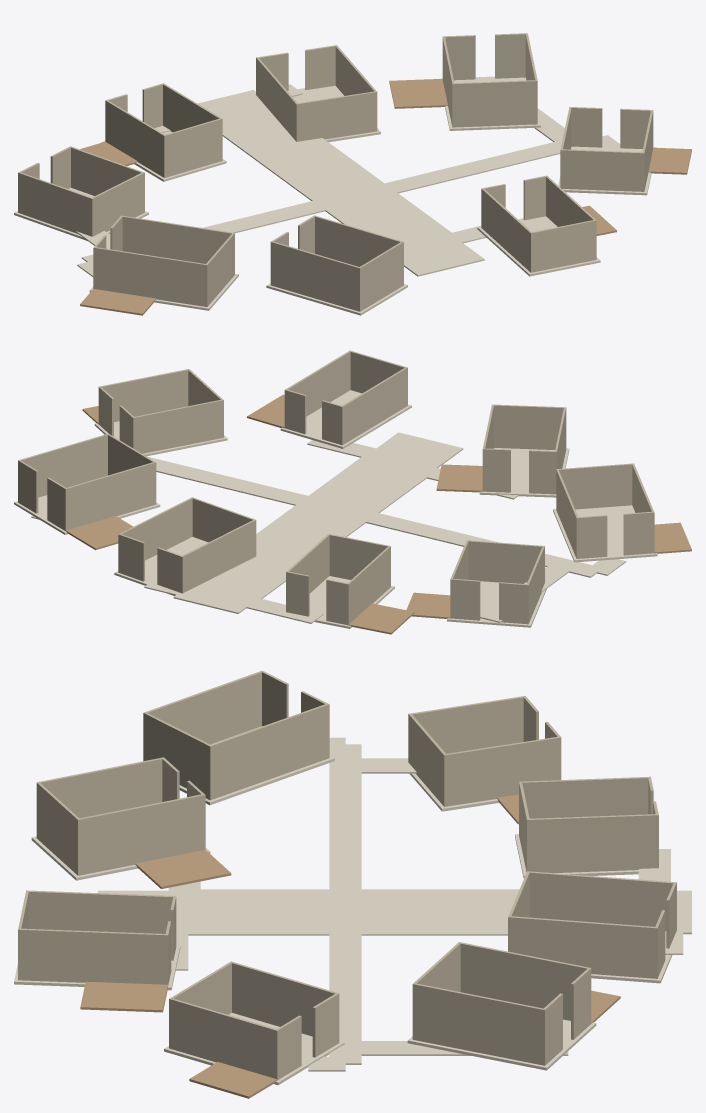
File: retreat-village.lod2.glb
3 views of the same model, one above another, from view 1: azimuth 30°, elevation 25°; view 2: azimuth 150°, elevation 25°; view 3: azimuth 270°, elevation 25° (orthographic). The views are drawn at different scales.
Bounding box in the file's own units: 37.11 × 3.96 × 27.4.
